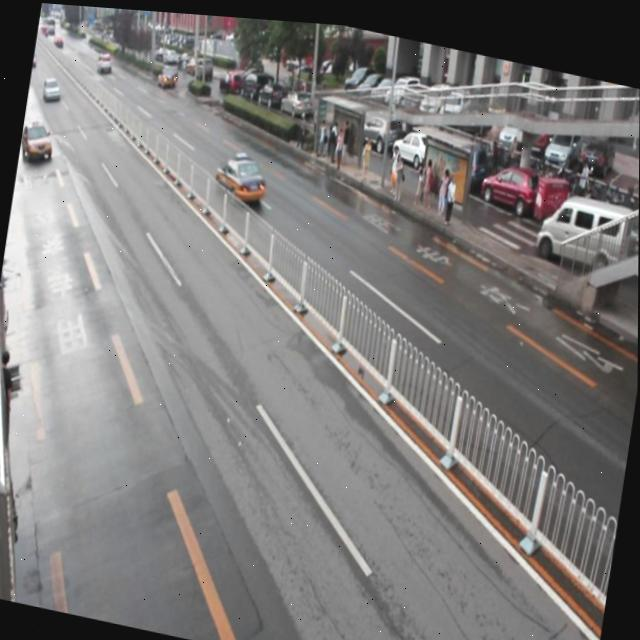car: (211, 143, 270, 204), (20, 116, 57, 161)
